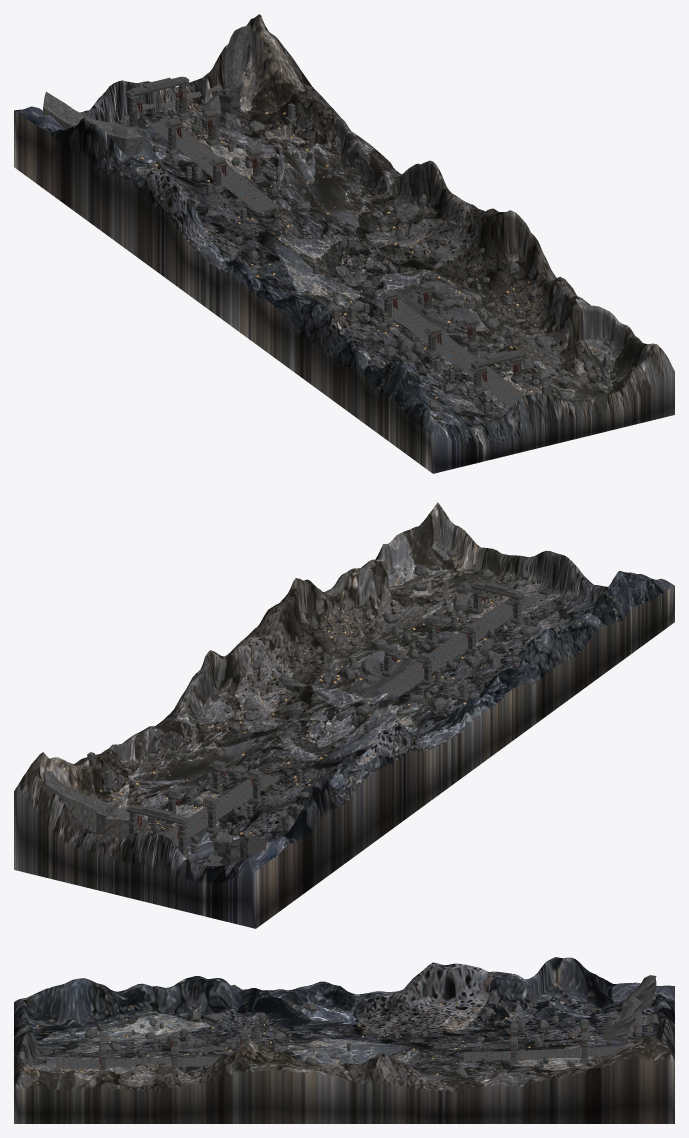
Rendered from world006.fbx.
The picture shows the model from 3 angles, top to bottom: view 1: azimuth 30°, elevation 25°; view 2: azimuth 150°, elevation 25°; view 3: azimuth 270°, elevation 25°; orthographic projection. The views are drawn at different scales.
Visible parts, largest first — view 1: Solid_BoundaryTerrainWest, Solid_BoundaryTerrainEast, Solid_BoundaryTerrainSouth, Terrain_3_3, Solid_BoundaryTerrainNorth, Terrain_4_4, Terrain_4_2, Terrain_4_3, Terrain_4_1, Terrain_2_3, Terrain_1_3, Art_CitadelBase.001 (+25 smaller); view 2: Solid_BoundaryTerrainWest, Solid_BoundaryTerrainEast, Solid_BoundaryTerrainNorth, Solid_BoundaryTerrainSouth, Terrain_4_3, Terrain_3_3, Art_CitadelBase.001, Terrain_4_2, Terrain_3_2, Terrain_4_1, Terrain_4_4, Terrain_5_3 (+22 smaller); view 3: Solid_BoundaryTerrainEast, Solid_BoundaryTerrainWest, Terrain_1_4, Terrain_1_3, Terrain_2_3, Terrain_0_4, Terrain_1_1, Terrain_1_2, Terrain_0_2, Solid_BoundaryTerrainSouth, Art_CitadelBase, Terrain_1_0 (+19 smaller).
Boxes of the visible parts, x1,y1,x2,y2 form: Solid_BoundaryTerrainWest: [14, 106, 437, 473]; Solid_BoundaryTerrainEast: [245, 14, 656, 376]; Solid_BoundaryTerrainSouth: [433, 344, 674, 473]; Terrain_3_3: [275, 209, 382, 282]; Solid_BoundaryTerrainNorth: [83, 19, 250, 123]; Terrain_4_4: [248, 138, 354, 208]; Terrain_4_2: [383, 239, 494, 314]; Terrain_4_3: [312, 198, 426, 258]; Terrain_4_1: [455, 294, 564, 367]; Terrain_2_3: [237, 214, 342, 283]; Terrain_1_3: [205, 223, 303, 287]; Art_CitadelBase.001: [202, 26, 251, 132]; Solid_BoundaryTerrainWest: [249, 571, 674, 928]; Solid_BoundaryTerrainEast: [21, 502, 443, 797]; Solid_BoundaryTerrainNorth: [14, 771, 255, 928]; Solid_BoundaryTerrainSouth: [438, 503, 607, 605]; Terrain_4_3: [194, 694, 304, 766]; Terrain_3_3: [232, 713, 344, 771]; Art_CitadelBase.001: [43, 769, 147, 837]; Terrain_4_2: [263, 648, 374, 713]; Terrain_3_2: [302, 666, 407, 737]; Terrain_4_1: [332, 603, 428, 665]; Terrain_4_4: [123, 756, 230, 807]; Terrain_5_3: [184, 676, 262, 753]; Solid_BoundaryTerrainEast: [14, 1034, 674, 1123]; Solid_BoundaryTerrainWest: [22, 957, 673, 1027]; Terrain_1_4: [451, 1015, 567, 1043]; Terrain_1_3: [344, 1018, 456, 1043]; Terrain_2_3: [343, 1041, 455, 1064]; Terrain_0_4: [451, 992, 568, 1023]; Terrain_1_1: [120, 1025, 236, 1049]; Terrain_1_2: [232, 1024, 345, 1045]; Terrain_0_2: [232, 1002, 343, 1030]; Solid_BoundaryTerrainSouth: [14, 998, 40, 1088]; Art_CitadelBase: [603, 975, 656, 1040]; Terrain_1_0: [34, 1028, 127, 1051].
Size of the model in its own units: 200 by 85.38 by 600.
